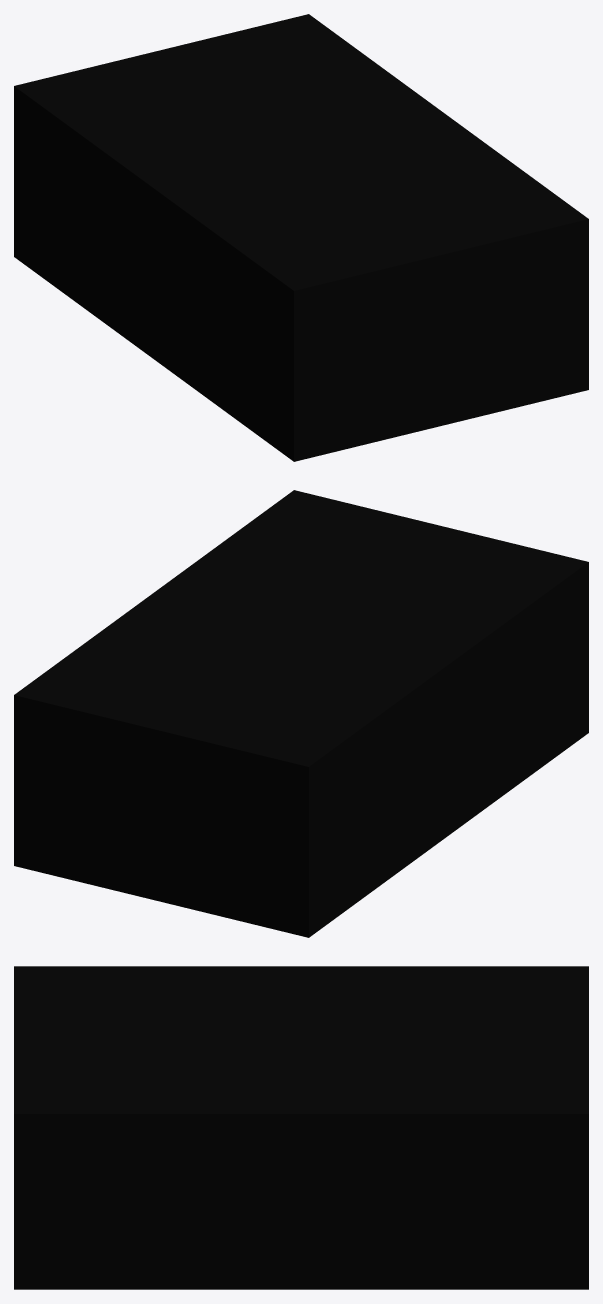
The model's file is cinema_multiplex.glb.
The picture shows the model from 3 angles, top to bottom: view 1: azimuth 30°, elevation 25°; view 2: azimuth 150°, elevation 25°; view 3: azimuth 270°, elevation 25°; orthographic projection. The views are drawn at different scales.
Visible parts, largest first — view 1: Walls_All, Ceiling; view 2: Walls_All, Ceiling; view 3: Walls_All, Ceiling.
Part boxes in pixels (x1,y1,x2,y2): Walls_All: (14, 91, 588, 461); Ceiling: (14, 14, 588, 295); Walls_All: (14, 567, 588, 937); Ceiling: (14, 490, 588, 771); Walls_All: (14, 1119, 588, 1289); Ceiling: (14, 966, 588, 1119).
Bounding box in the file's own units: 18.6 × 10.3 × 30.6.
Materials: 12 (11 with a texture image).
